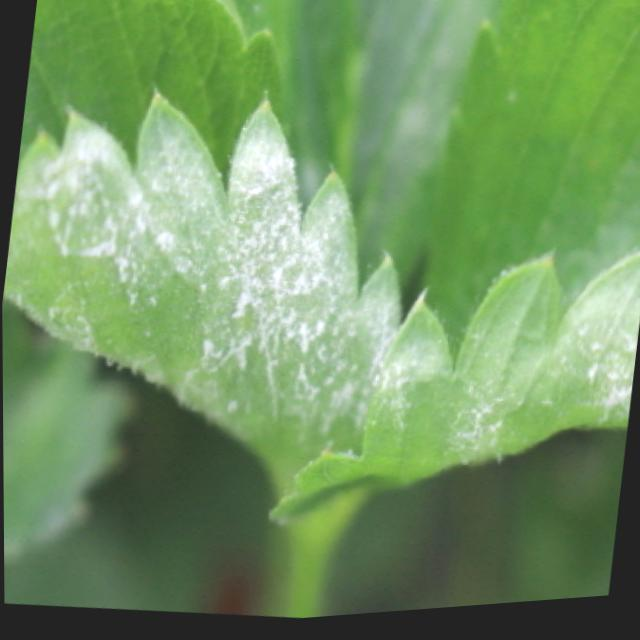Powdery Mildew Leaf: (2, 0, 402, 493), (270, 0, 640, 532)
